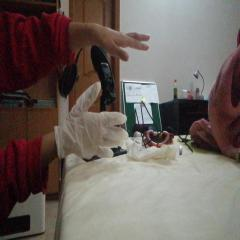gloved: (58, 81, 128, 160)
not-gloved: (76, 22, 150, 61)
